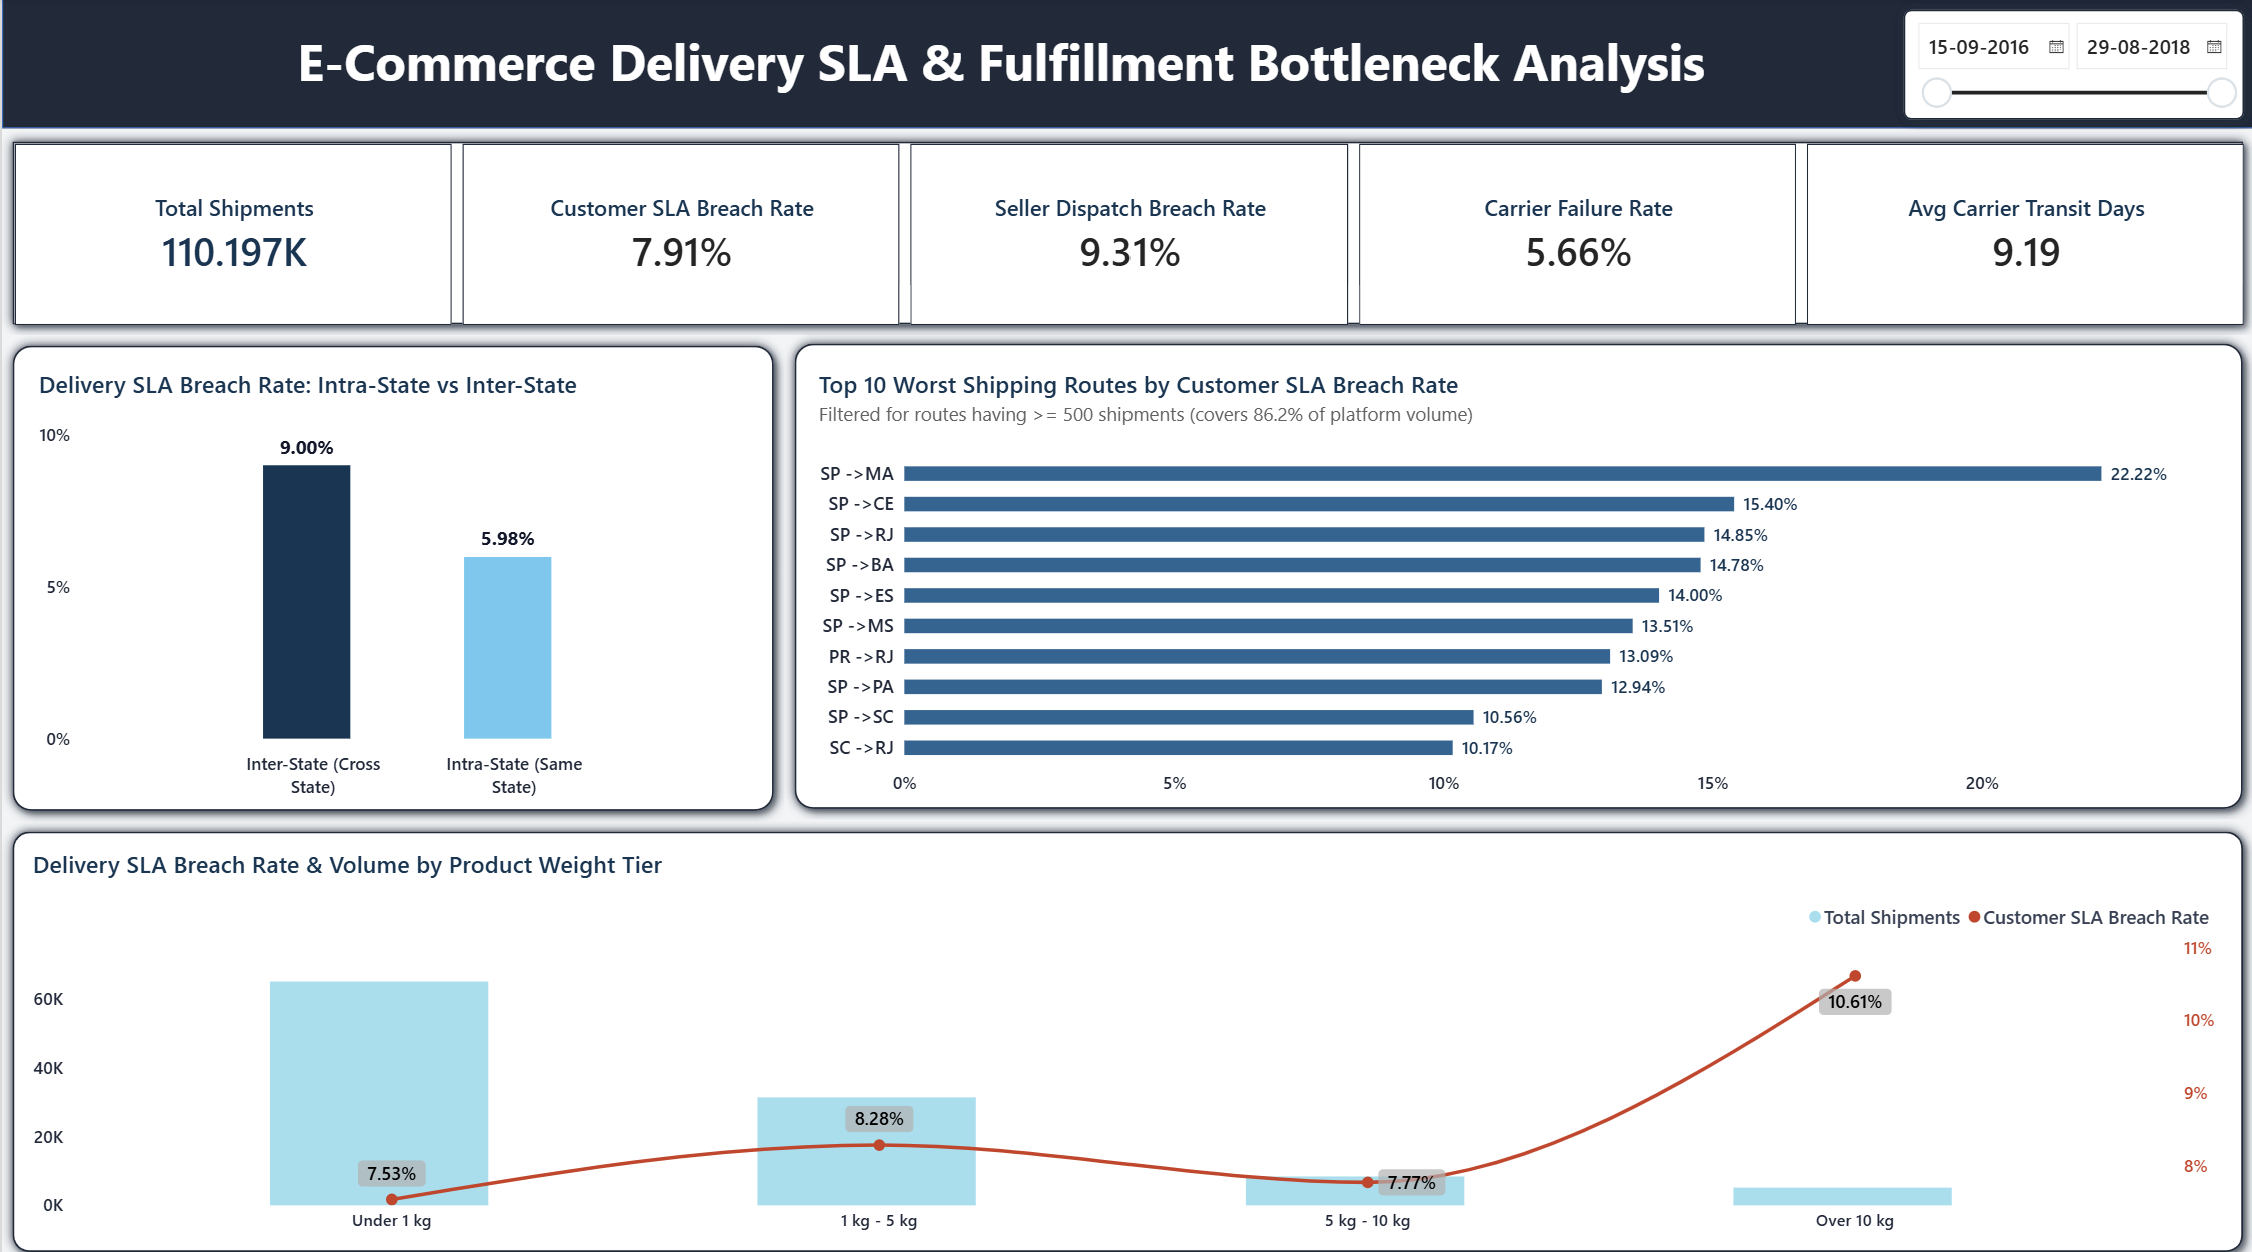

This screenshot's page, from the dashboard's own definition file:
{"tool":"powerbi","page":{"name":"Shipping Corridors & Weight Risk","canvas":[1920,1080],"ordinal":1},"visuals":[{"type":"shape","box":[667.4,286.9,1252.6,415],"z":0},{"type":"shape","box":[0,703.7,1920,376.7],"z":1000},{"type":"shape","box":[0,288.8,667.4,415],"z":2000},{"type":"shape","box":[0,114.7,1920,174],"z":3000},{"type":"cardVisual","fields":{"Data":["_Measures.Total Shipments","_Measures.Customer SLA Breach Rate","_Measures.Seller Breach Rate","_Measures.Carrier Failure Rate","_Measures.Avg Carrier Transit Days"]},"box":[9.6,124.3,1903,156.8],"z":4000},{"type":"shape","box":[0,0,1920.7,112.1],"z":5000},{"type":"shape","box":[1612.1,1.7,308.6,112.1],"z":6000},{"type":"textbox","box":[0,24.9,1703.9,82.2],"z":7000},{"type":"slicer","fields":{"Values":["supply_chain delivery_sla_analysis.purchase_timestamp"]},"box":[1625.9,17.2,282.8,94.8],"z":8000},{"type":"clusteredColumnChart","title":"Delivery SLA Breach Rate: Intra-State vs Inter-State","fields":{"Category":["supply_chain delivery_sla_analysis.Corridor_type"],"Y":["_Measures.Customer SLA Breach Rate"]},"box":[15.3,302.2,634.9,399.7],"z":9000},{"type":"clusteredBarChart","title":"Top 10 Worst Shipping Routes by Customer SLA Breach Rate","fields":{"Category":["supply_chain delivery_sla_analysis.route_corridor"],"Y":["_Measures.Customer SLA Breach Rate"]},"box":[680.8,302.2,1222,399.7],"z":10000},{"type":"lineClusteredColumnComboChart","title":"Delivery SLA Breach Rate & Volume by Product Weight Tier","fields":{"Category":["supply_chain delivery_sla_analysis.weight_bracket"],"Y":["_Measures.Total Shipments"],"Y2":["_Measures.Customer SLA Breach Rate"]},"box":[9.6,711.4,1893.2,363.3],"z":11000}]}

Visuals, with their boxes in screenshot pixels (x1, y1, x2, y2), scaled from the page's 1920x1080 canvas onto the 2252x1252 screenshot:
shape: bbox=[783, 333, 2251, 814]
shape: bbox=[0, 816, 2251, 1251]
shape: bbox=[0, 335, 783, 816]
shape: bbox=[0, 133, 2251, 335]
cardVisual - _Measures.Total Shipments x _Measures.Customer SLA Breach Rate: bbox=[11, 144, 2243, 326]
shape: bbox=[0, 0, 2251, 130]
shape: bbox=[1891, 2, 2251, 132]
textbox: bbox=[0, 29, 1999, 124]
slicer - supply_chain delivery_sla_analysis.purchase_timestamp: bbox=[1907, 20, 2239, 130]
"Delivery SLA Breach Rate: Intra-State vs Inter-State" clusteredColumnChart: bbox=[18, 350, 763, 814]
"Top 10 Worst Shipping Routes by Customer SLA Breach Rate" clusteredBarChart: bbox=[799, 350, 2232, 814]
"Delivery SLA Breach Rate & Volume by Product Weight Tier" lineClusteredColumnComboChart: bbox=[11, 825, 2232, 1246]
